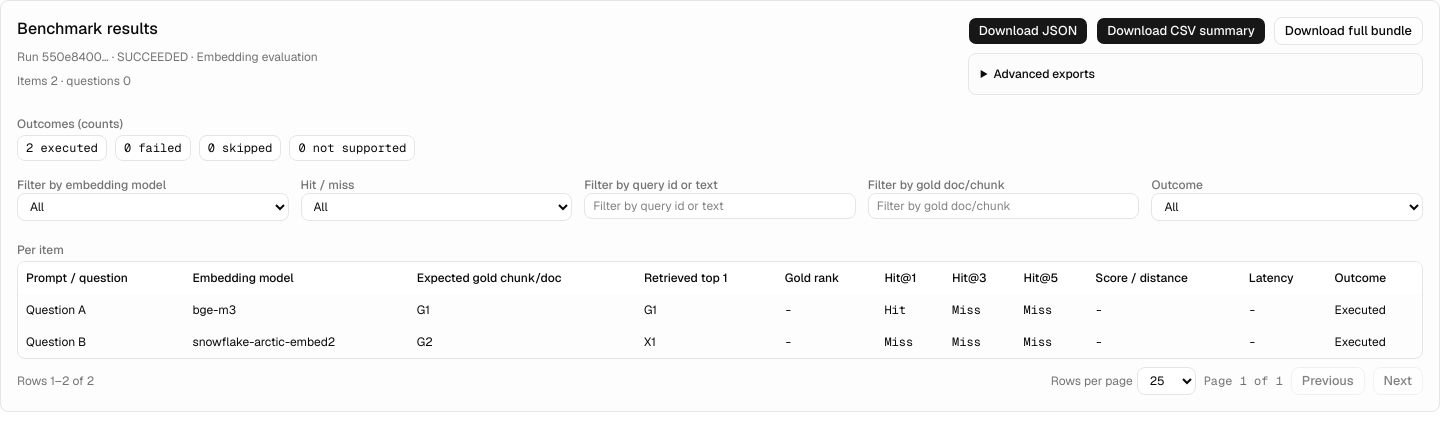
it: LabBenchmarkResultsPanel › embedding model filter limits per-item rows
Step 1. Select "bge-m3" in the dropdown with test id "lab-results-filter-model" → (153, 207), box [17,193,289,221]
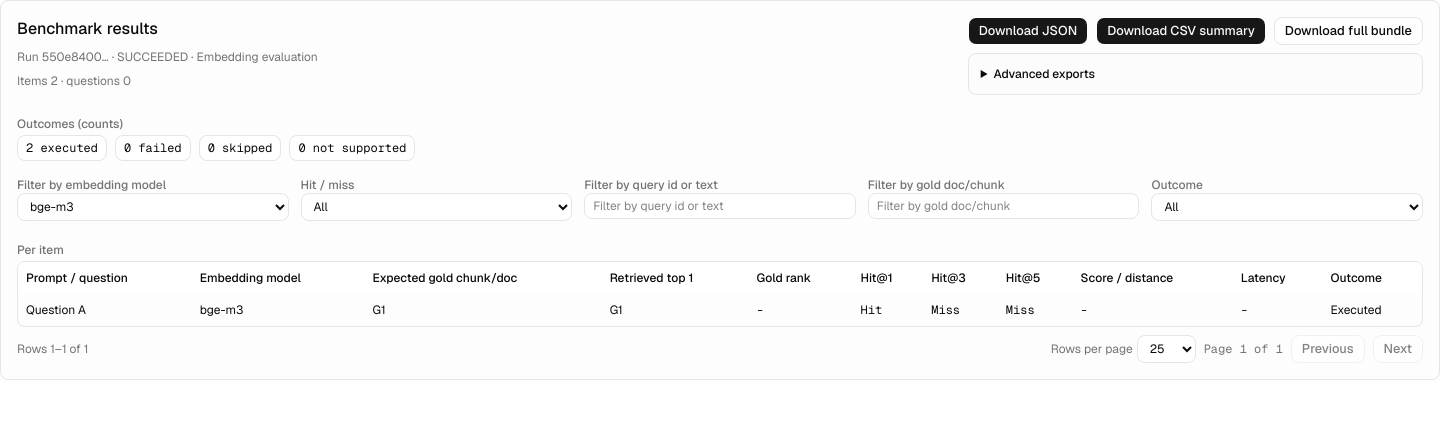
Expected: the text "Question A" is shown, [26,302,86,318]
Expected: the text "Question B" is gone
